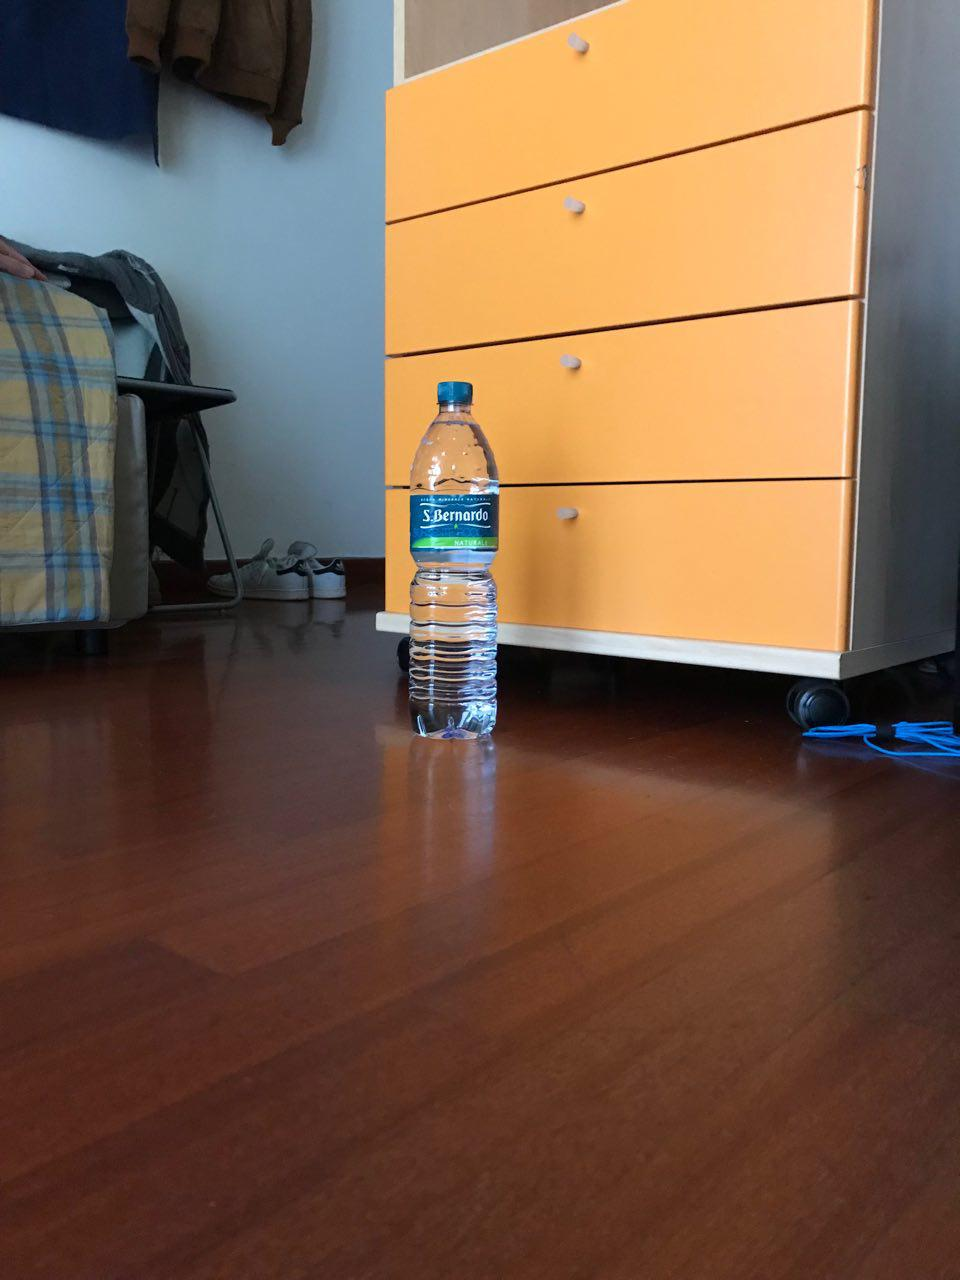san_bernardo: (407, 379, 501, 742)
